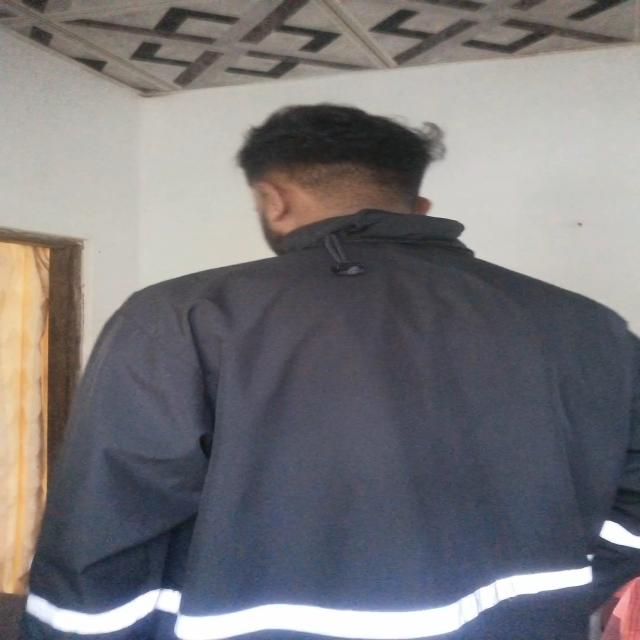Jacket_Wearer: (85, 210, 640, 639)
